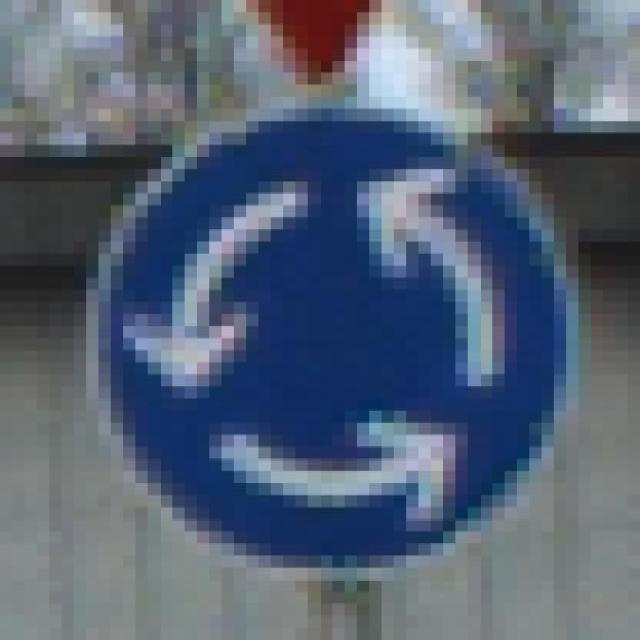Round-About: (49, 85, 603, 580)
